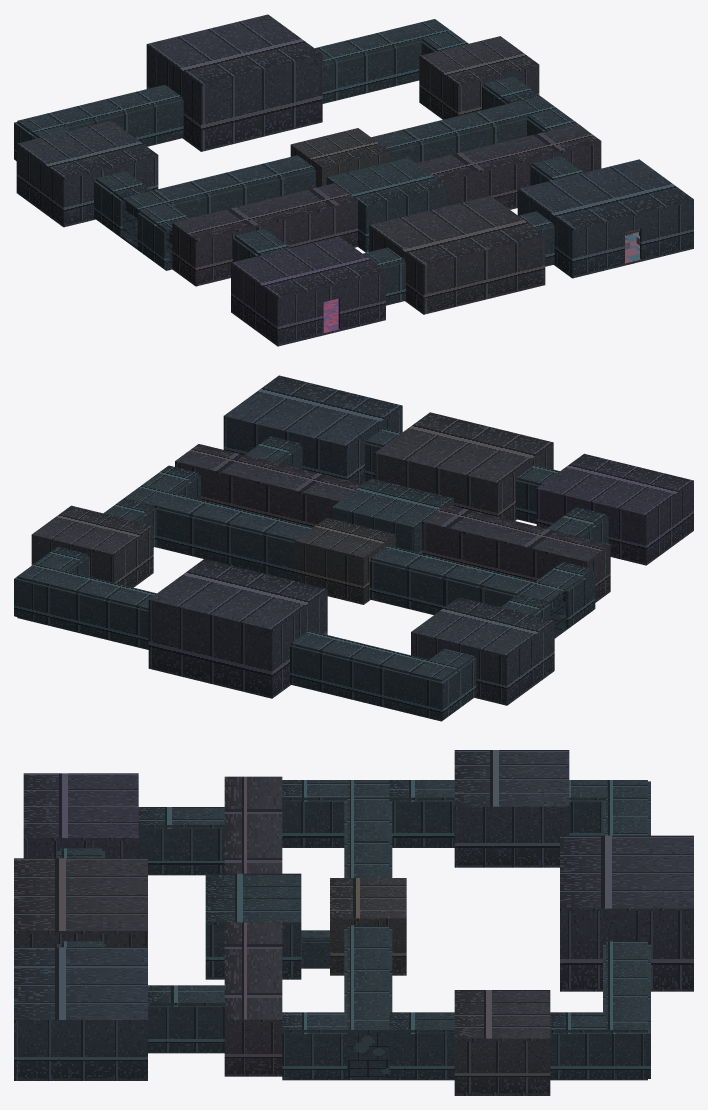
The model's file is office_map.glb.
3 views of the same model, one above another, from view 1: azimuth 30°, elevation 25°; view 2: azimuth 150°, elevation 25°; view 3: azimuth 270°, elevation 25° (orthographic). The views are drawn at different scales.
Parts seen in each view (by area): view 1: Loading_Walls, DiningB_Ceiling, Loading_Ceiling, DiningA_Ceiling, DiningA_Walls, Arcade_Walls, DiningB_Walls, LinkBayE2, Arcade_Ceiling, WestHall_Walls, LinkElecW, LinkElecE (+27 smaller); view 2: Loading_Walls, LinkElecE, DiningB_Ceiling, DiningA_Ceiling, Loading_Ceiling, LinkBayW2, LinkElecW, LinkBayE2, Arcade_Ceiling, Arcade_Walls, Storage_Ceiling, WestHall_Walls (+26 smaller); view 3: Loading_Ceiling, DiningA_Ceiling, DiningB_Ceiling, Loading_Walls, Arcade_Ceiling, DiningB_Walls, Storage_Ceiling, Storage_Walls, EastHall_Ceiling, LinkArcade, WestHall_Ceiling, LinkElecE (+24 smaller).
Part boxes in pixels (x1=…): Loading_Walls: x1=146, y1=46, x2=322, y2=149; DiningB_Ceiling: x1=517, y1=159, x2=693, y2=230; Loading_Ceiling: x1=146, y1=14, x2=322, y2=85; DiningA_Ceiling: x1=369, y1=195, x2=545, y2=267; DiningA_Walls: x1=369, y1=227, x2=545, y2=312; Arcade_Walls: x1=231, y1=265, x2=385, y2=344; DiningB_Walls: x1=517, y1=191, x2=693, y2=276; LinkBayE2: x1=315, y1=26, x2=422, y2=103; Arcade_Ceiling: x1=231, y1=236, x2=385, y2=298; WestHall_Walls: x1=172, y1=202, x2=357, y2=284; LinkElecW: x1=153, y1=155, x2=315, y2=242; LinkElecE: x1=371, y1=103, x2=527, y2=163; Loading_Walls: x1=148, y1=591, x2=327, y2=696; LinkElecE: x1=154, y1=492, x2=313, y2=580; DiningB_Ceiling: x1=223, y1=375, x2=402, y2=448; DiningA_Ceiling: x1=374, y1=412, x2=553, y2=484; Loading_Ceiling: x1=148, y1=559, x2=327, y2=631; LinkBayW2: x1=290, y1=630, x2=428, y2=713; LinkElecW: x1=369, y1=545, x2=535, y2=614; LinkBayE2: x1=46, y1=571, x2=156, y2=649; Arcade_Ceiling: x1=536, y1=453, x2=693, y2=517; Arcade_Walls: x1=536, y1=483, x2=693, y2=563; Storage_Ceiling: x1=411, y1=597, x2=554, y2=657; WestHall_Walls: x1=422, y1=523, x2=610, y2=601; Loading_Ceiling: x1=560, y1=835, x2=693, y2=910; DiningA_Ceiling: x1=14, y1=858, x2=147, y2=933; DiningB_Ceiling: x1=14, y1=947, x2=147, y2=1022; Loading_Walls: x1=560, y1=911, x2=693, y2=989; Arcade_Ceiling: x1=23, y1=773, x2=138, y2=840; DiningB_Walls: x1=14, y1=1022, x2=147, y2=1078; Storage_Ceiling: x1=454, y1=750, x2=569, y2=809; Storage_Walls: x1=454, y1=809, x2=569, y2=864; EastHall_Ceiling: x1=224, y1=922, x2=282, y2=1021; LinkArcade: x1=138, y1=807, x2=224, y2=875; WestHall_Ceiling: x1=224, y1=776, x2=282, y2=873; LinkElecE: x1=344, y1=925, x2=392, y2=1059.
Size of what is drawn, in the model's own units: 35.2 by 4.8 by 35.5.
Materials: 1 (1 with a texture image).
